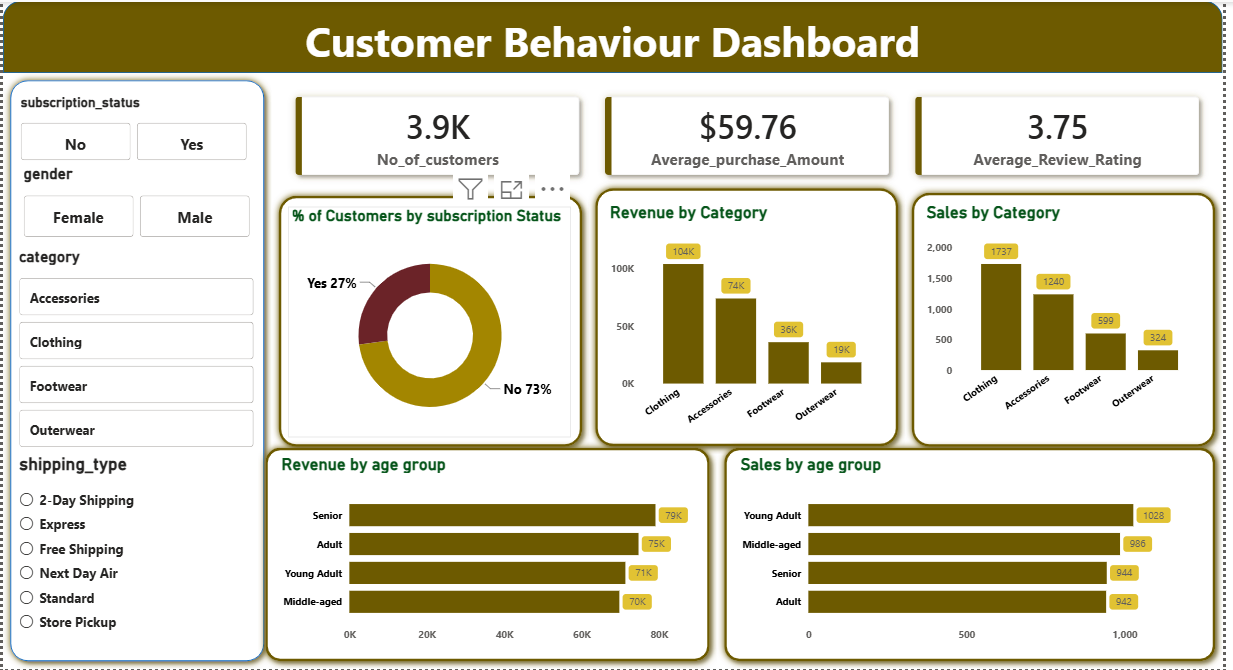

This screenshot's page, from the dashboard's own definition file:
{"tool":"powerbi","page":{"name":"Page 1","canvas":[1500,820],"ordinal":0},"visuals":[{"type":"cardVisual","fields":{"Data":["DAX_measures.No_of_customers","DAX_measures.Average_purchase_Amount","DAX_measures.Average_Review_Rating"]},"box":[330.1,88.5,1169.2,154.9],"z":0},{"type":"shape","box":[0,0,1499.3,88.5],"z":1000},{"type":"shape","box":[330.1,230.5,391,326.4],"z":2000},{"type":"donutChart","title":" % of Customers by subscription Status","fields":{"Category":["public customer.subscription_status"],"Y":["CountNonNull(public customer.customer_id)"]},"box":[350.4,252.6,348.5,284],"z":3000},{"type":"shape","box":[719.2,221.5,390.2,335.2],"z":4000},{"type":"shape","box":[1108.3,226.8,391,330.1],"z":5000},{"type":"shape","box":[0,88.5,330.1,732.1],"z":6000},{"type":"clusteredColumnChart","title":"Revenue by Category","fields":{"Category":["public customer.category"],"Y":["Sum(public customer.purchase_amount)"]},"box":[741.3,247.1,346.7,293.2],"z":7000},{"type":"clusteredColumnChart","title":"Sales by Category","fields":{"Category":["public customer.category"],"Y":["CountNonNull(public customer.customer_id)"]},"box":[1130.4,247.1,346.7,276.6],"z":8000},{"type":"advancedSlicerVisual","fields":{"Values":["public customer.subscription_status"]},"box":[16.6,114.3,289.5,86.7],"z":8001},{"type":"advancedSlicerVisual","fields":{"Values":["public customer.gender"]},"box":[20.3,201,289.5,94.1],"z":8002},{"type":"advancedSlicerVisual","fields":{"Values":["public customer.category"]},"box":[14.8,302.4,298.7,254.5],"z":8003},{"type":"listSlicer","fields":{"Values":["public customer.shipping_type"]},"box":[14.8,556.9,285.8,236],"z":8004},{"type":"shape","box":[313.5,540.3,564.3,280.3],"z":8005},{"type":"shape","box":[877.8,540.3,621.5,280.3],"z":8006},{"type":"clusteredBarChart","title":"Sales by age group","fields":{"Category":["public customer.age_group"],"Y":["CountNonNull(public customer.customer_id)"]},"box":[901.8,556.9,575.4,239.7],"z":8007},{"type":"clusteredBarChart","title":"Revenue by age group","fields":{"Category":["public customer.age_group"],"Y":["Sum(public customer.purchase_ferequency_days)"]},"box":[337.5,556.9,516.4,239.7],"z":8008}]}

Visuals, with their boxes in screenshot pixels (x1, y1, x2, y2), scaled from the page's 1500x820 canvas onto the 1233x670 screenshot:
cardVisual - DAX_measures.No_of_customers x DAX_measures.Average_purchase_Amount: [271,72,1232,199]
shape: [0,0,1232,72]
shape: [271,188,593,455]
" % of Customers by subscription Status" donutChart: [288,206,574,438]
shape: [591,181,912,455]
shape: [911,185,1232,455]
shape: [0,72,271,669]
"Revenue by Category" clusteredColumnChart: [609,202,894,441]
"Sales by Category" clusteredColumnChart: [929,202,1214,428]
advancedSlicerVisual - public customer.subscription_status: [14,93,252,164]
advancedSlicerVisual - public customer.gender: [17,164,255,241]
advancedSlicerVisual - public customer.category: [12,247,258,455]
listSlicer - public customer.shipping_type: [12,455,247,648]
shape: [258,441,722,669]
shape: [722,441,1232,669]
"Sales by age group" clusteredBarChart: [741,455,1214,651]
"Revenue by age group" clusteredBarChart: [277,455,702,651]
